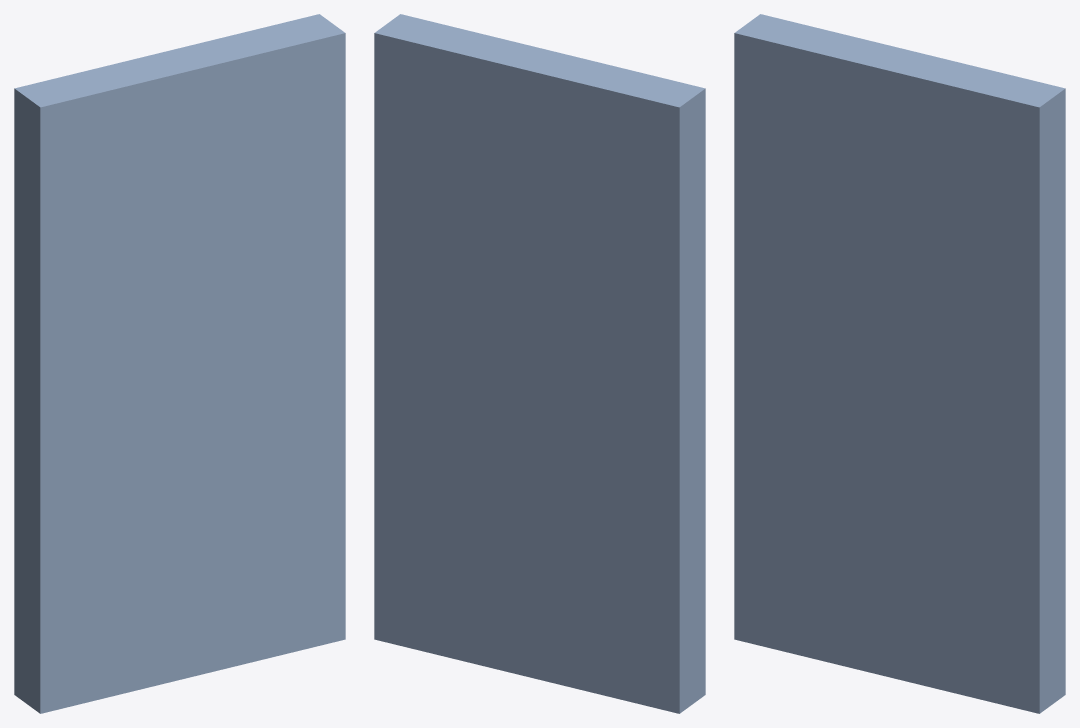
The model's file is MOD_ElevatorDoor.fbx.
The picture shows the model from 3 angles, left to right: view 1: azimuth 30°, elevation 25°; view 2: azimuth 150°, elevation 25°; view 3: azimuth 330°, elevation 25°; orthographic projection.
Parts seen in each view (by area): view 1: MOD_ElevatorDoor; view 2: MOD_ElevatorDoor; view 3: MOD_ElevatorDoor.
Part boxes in pixels (left/top/right/bottom): MOD_ElevatorDoor: left=14, top=14, right=345, bottom=713; MOD_ElevatorDoor: left=374, top=14, right=705, bottom=713; MOD_ElevatorDoor: left=734, top=14, right=1065, bottom=713.
Size of the model in its own units: 75.35 by 143 by 11.13.
